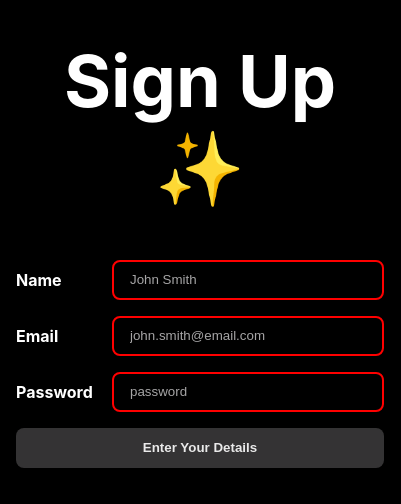
Test case: Signup flow - happy path › Successfully signs up
Type "Jane Doe" into the field named "name" at (248, 280), box 112,260 -> 384,300
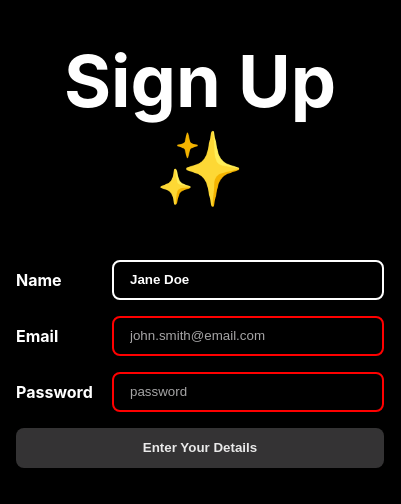
Type "jane.doe@example.com" into the field named "email" at (248, 336), box 112,316 -> 384,356
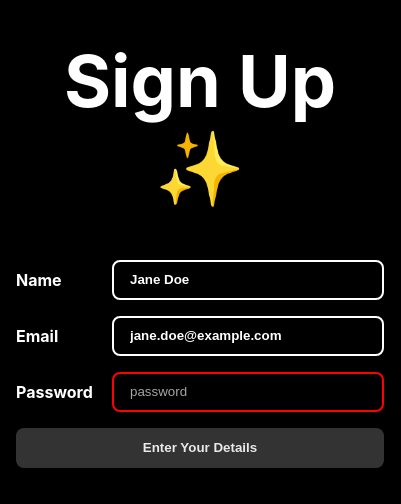
Type "passw0rd" into the password field named "password" at (248, 392), box 112,372 -> 384,412
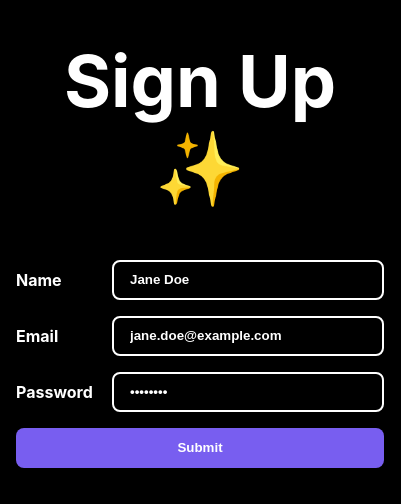
Click the submit button at (200, 448), box 16,428 -> 384,468
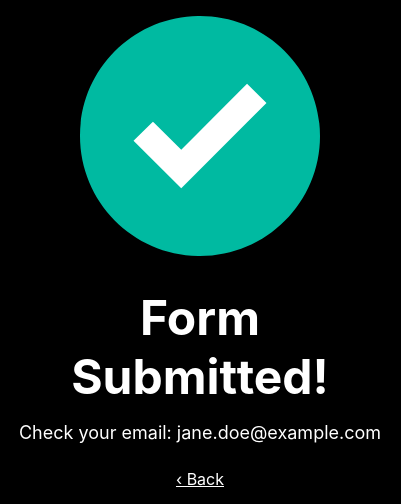
Check: the text with test id "CaptionText" shows "jane.doe@example.com", box 19,422 -> 381,443
